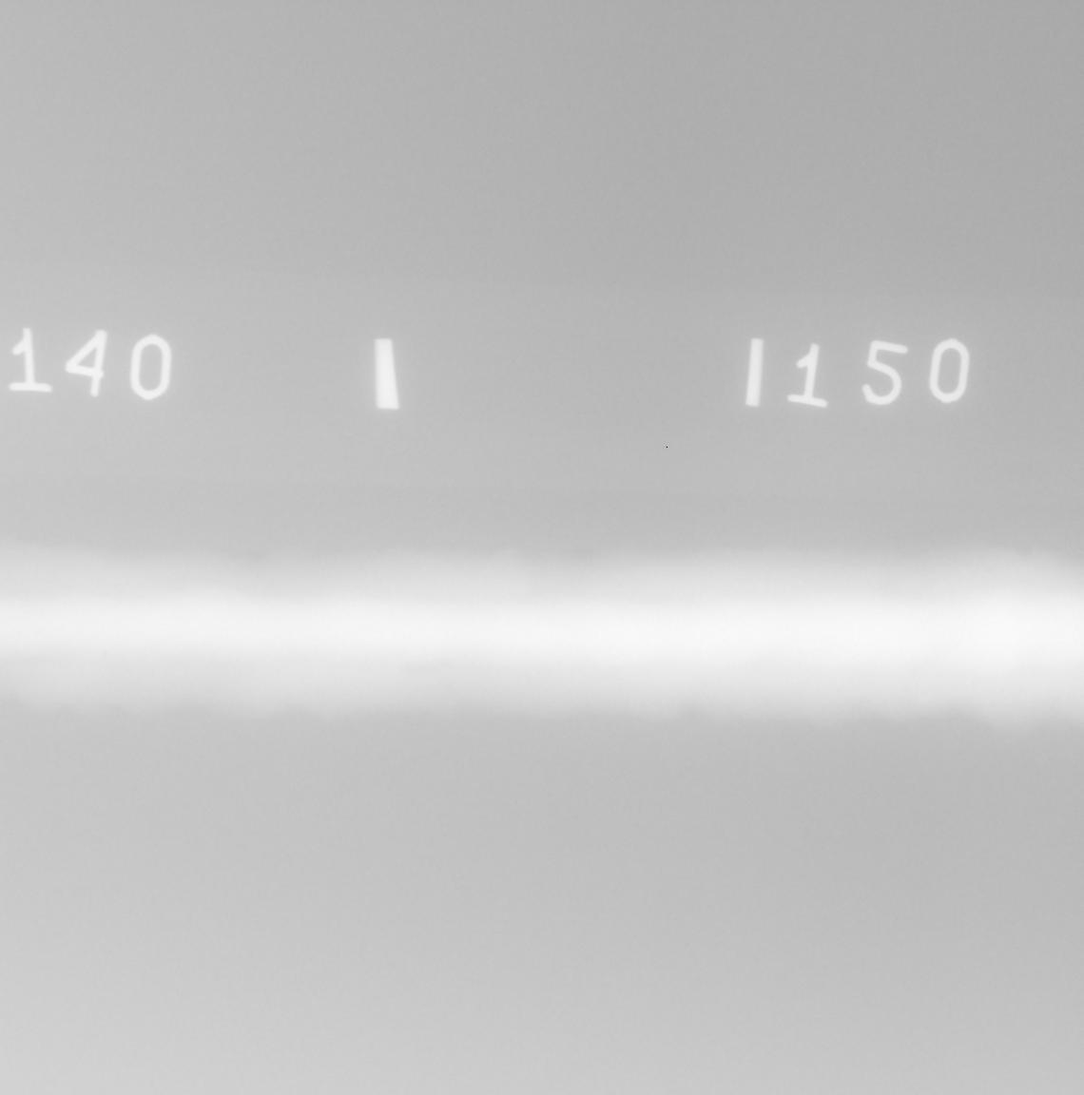Pore/Porosity: (986, 566, 992, 572), (359, 565, 363, 571)
